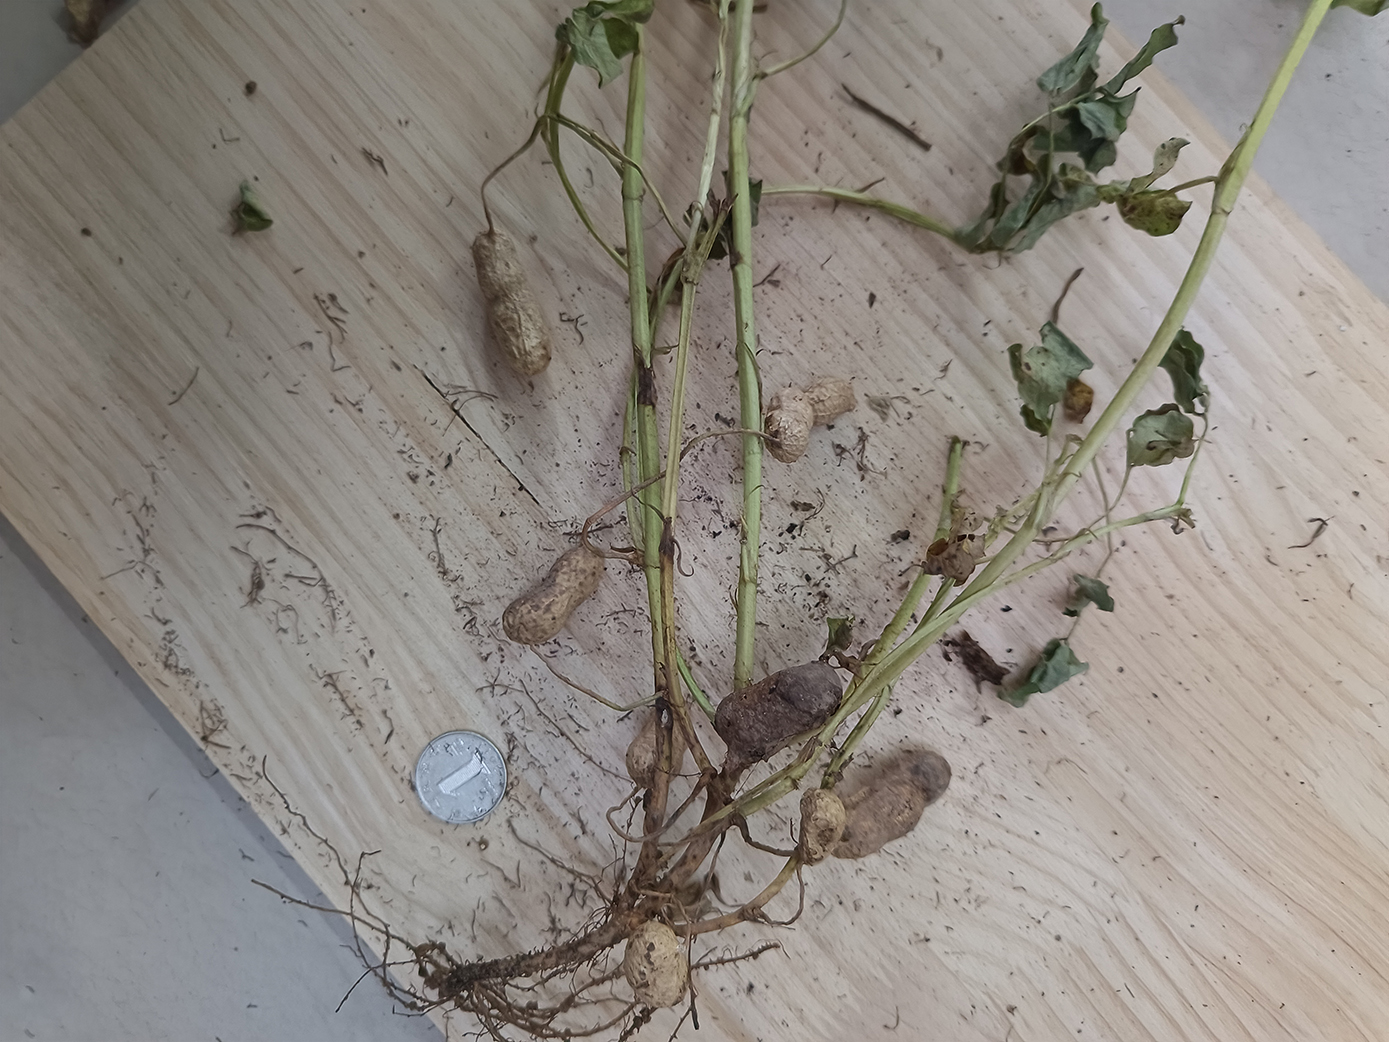h: (472, 232, 556, 375), (502, 546, 602, 644), (764, 377, 858, 462), (622, 921, 688, 1009), (628, 701, 687, 785), (798, 787, 843, 866)
l: (843, 748, 954, 868), (714, 662, 843, 757)
